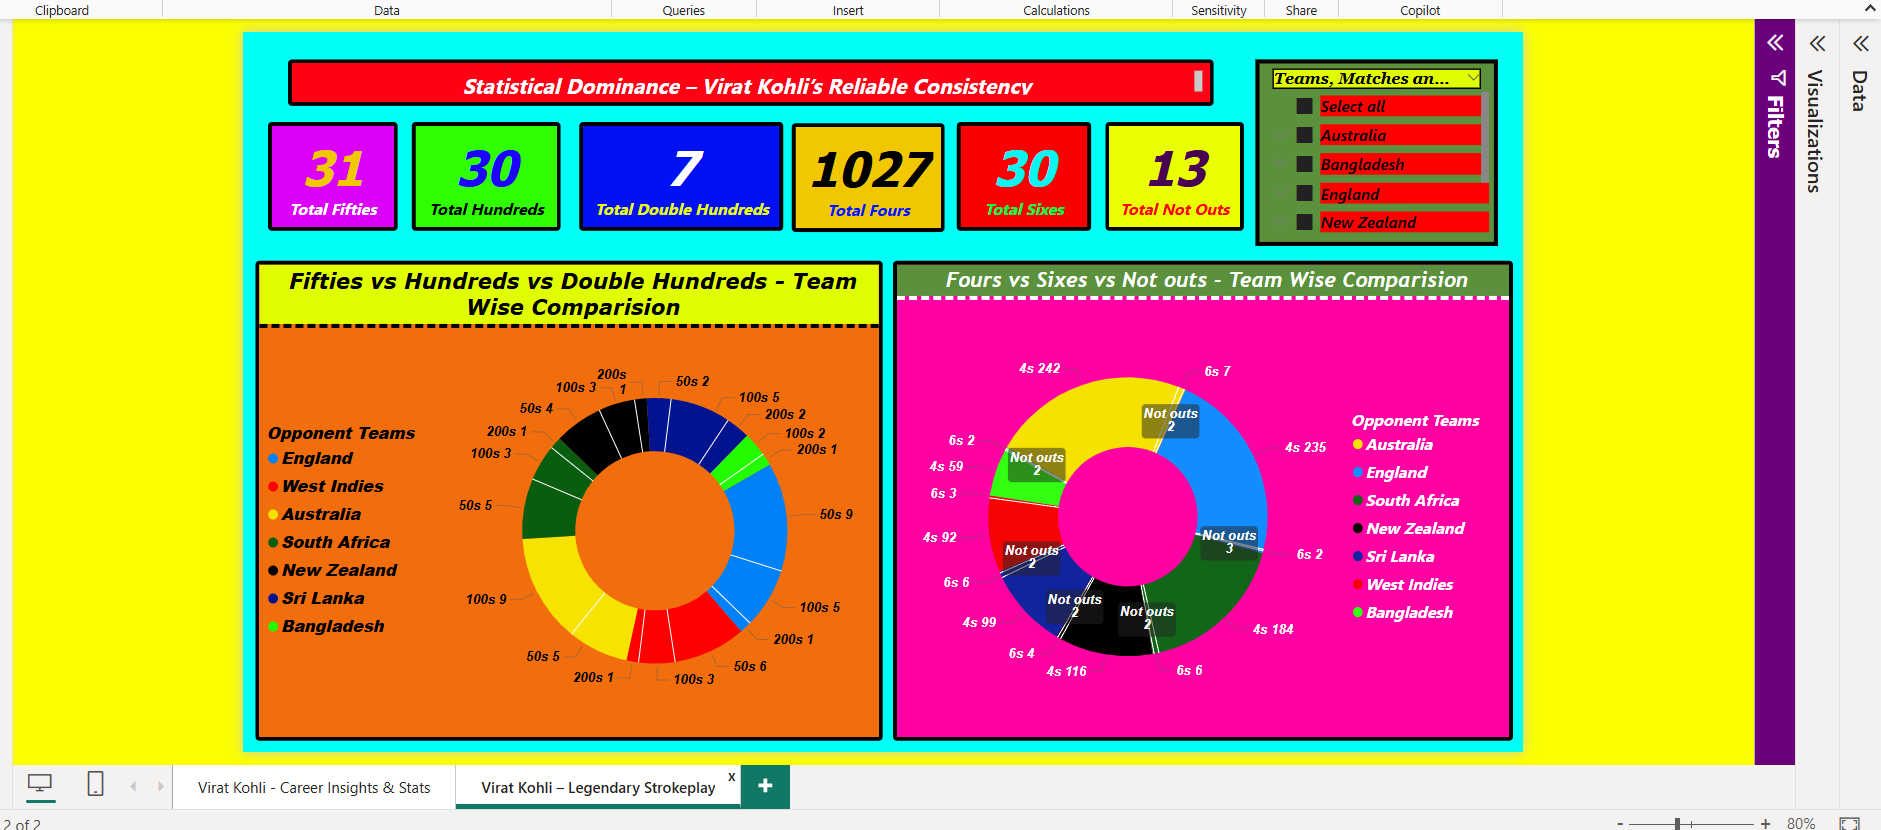

The dashboard page shown, as its layout file describes it:
{"tool":"powerbi","page":{"name":"Virat Kohli – Legendary Strokeplay","canvas":[1280,720],"ordinal":1},"visuals":[{"type":"slicer","fields":{"Values":["Virat Kohli Performance against opponents.Team","Virat Kohli Performance against opponents.Matches","Virat Kohli Performance against opponents.Inns"]},"box":[1012.5,27.5,242.5,186.2],"z":0},{"type":"donutChart","title":"Fifties vs Hundreds vs Double Hundreds - Team Wise Comparision","fields":{"Y":["Sum(Virat Kohli Performance against opponents.Fifties)","Sum(Virat Kohli Performance against opponents.Hundreds)","Sum(Virat Kohli Performance against opponents.Double hundreds)"],"Category":["Virat Kohli Performance against opponents.Team"]},"box":[12.5,228.8,627.5,480],"z":1000},{"type":"pieChart","title":"Fours vs Sixes vs Not outs - Team Wise Comparision","fields":{"Y":["Sum(Virat Kohli Performance against opponents.Fours)","Sum(Virat Kohli Performance against opponents.Sixes)","Sum(Virat Kohli Performance against opponents.Not out)"],"Category":["Virat Kohli Performance against opponents.Team"]},"box":[650,228.6,620,480],"z":2000},{"type":"card","title":"Most Runs","fields":{"Values":["Virat Kohli Career Overview.TotalNotOuts"]},"box":[862.1,90.5,138.2,108.8],"z":3000},{"type":"card","title":"Best Average","fields":{"Values":["Virat Kohli Career Overview.Total Fifties"]},"box":[24.5,90.5,129.6,108.8],"z":4000},{"type":"card","title":"Highest Strike Rate","fields":{"Values":["Virat Kohli Career Overview.Total Hundreds"]},"box":[168.8,90.5,149.2,108.8],"z":5000},{"type":"card","title":"Most Hundreds","fields":{"Values":["Virat Kohli Career Overview.Total Double Hundreds"]},"box":[336.3,90.5,204.2,108.8],"z":6000},{"type":"card","title":"Most Double Hundreds","fields":{"Values":["Virat Kohli Career Overview.Total Fours"]},"box":[549.1,91.7,152.9,108.8],"z":7000},{"type":"card","title":"Top Score","fields":{"Values":["Virat Kohli Career Overview.Total Sixes"]},"box":[714.1,90.5,134.5,108.8],"z":8000},{"type":"textbox","box":[45.2,26.9,925.7,46.5],"z":9000}]}

Visuals, with their boxes on the page's 1280x720 design canvas (x1, y1, x2, y2). These are canvas units, not pixel positions in the 1881x830 screenshot, which may show the page scaled, cropped or inside an application window:
slicer - Virat Kohli Performance against opponents.Team x Virat Kohli Performance against opponents.Matches: 1012 28 1255 214
"Fifties vs Hundreds vs Double Hundreds - Team Wise Comparision" donutChart: 12 229 640 709
"Fours vs Sixes vs Not outs - Team Wise Comparision" pieChart: 650 229 1270 709
"Most Runs" card: 862 90 1000 199
"Best Average" card: 24 90 154 199
"Highest Strike Rate" card: 169 90 318 199
"Most Hundreds" card: 336 90 540 199
"Most Double Hundreds" card: 549 92 702 200
"Top Score" card: 714 90 849 199
textbox: 45 27 971 73
